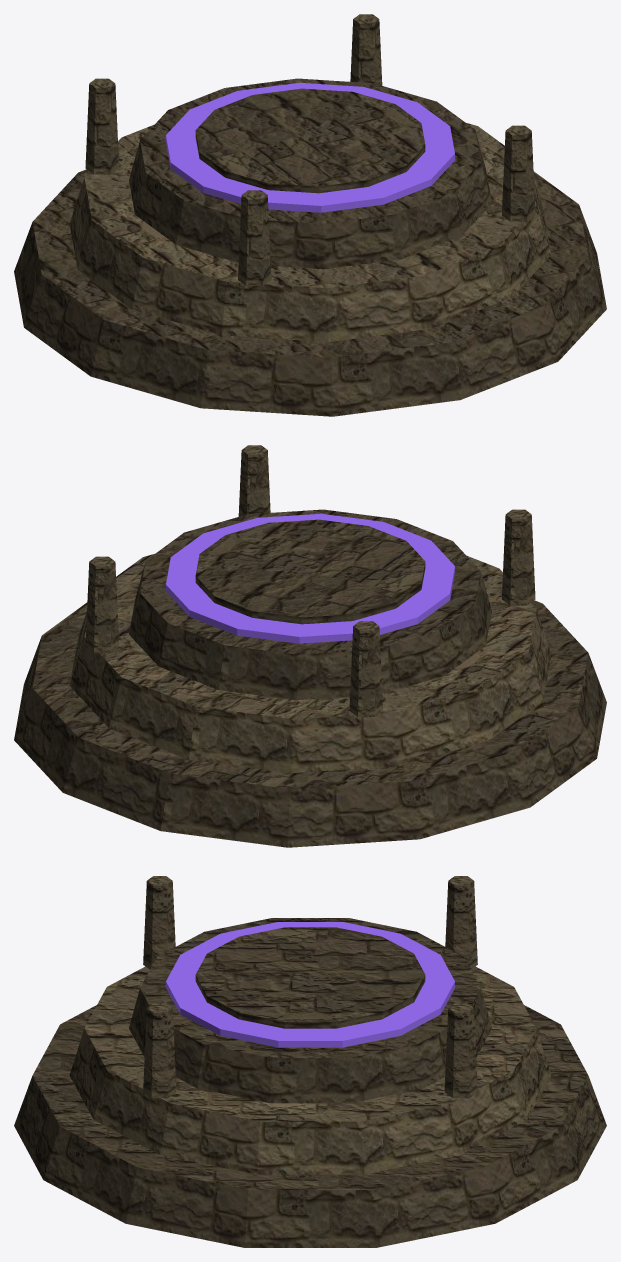
File: altar_base_01.glb
The picture shows the model from 3 angles, top to bottom: view 1: azimuth 30°, elevation 25°; view 2: azimuth 150°, elevation 25°; view 3: azimuth 270°, elevation 25°; orthographic projection.
Visible parts, largest first — view 1: altar_base_01; view 2: altar_base_01; view 3: altar_base_01.
Part boxes in pixels (left/top/right/bottom): altar_base_01: left=14, top=14, right=606, bottom=416; altar_base_01: left=14, top=445, right=606, bottom=847; altar_base_01: left=14, top=876, right=606, bottom=1247.
Size of the model in its own units: 3.12 by 1.08 by 3.2.
Materials: 3 (2 with a texture image).
